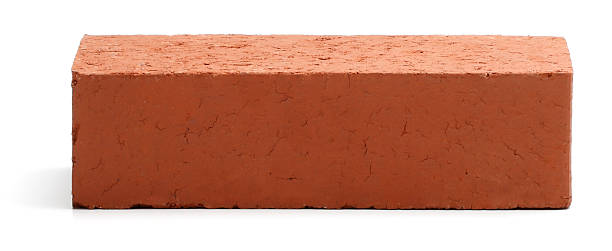brick: (74, 55, 572, 209)
